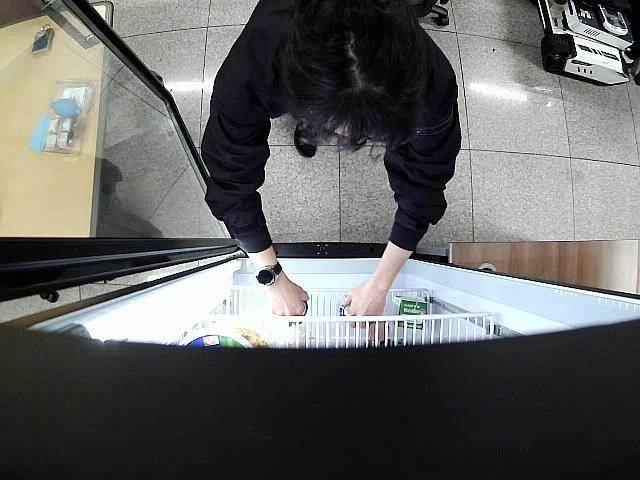00_hand: (338, 281, 387, 329), (268, 279, 309, 326)
